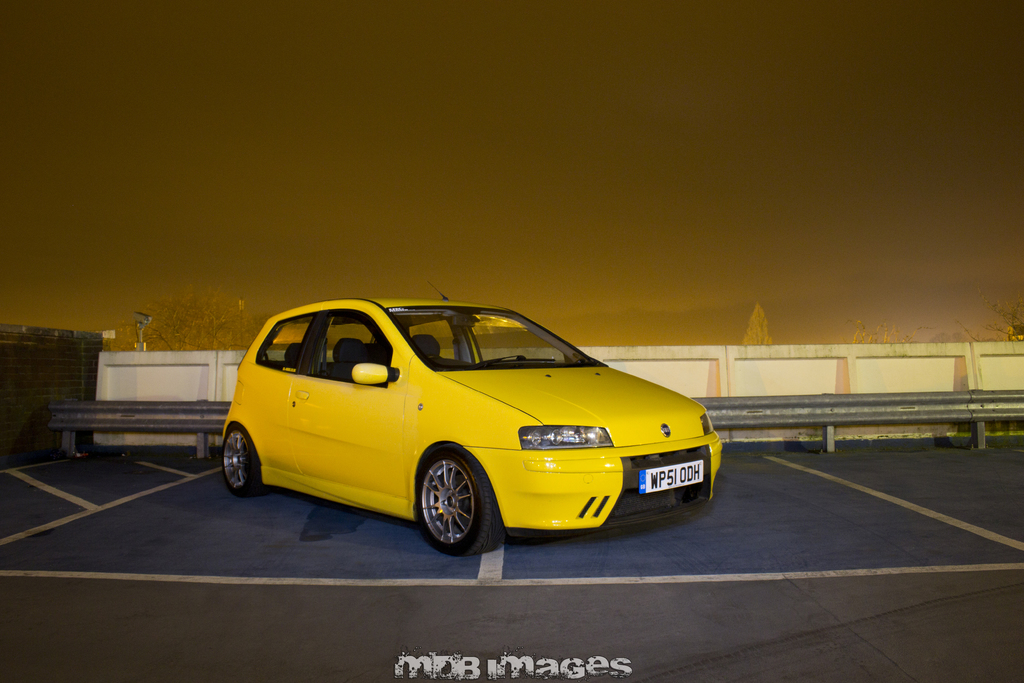cars: (217, 281, 725, 555)
